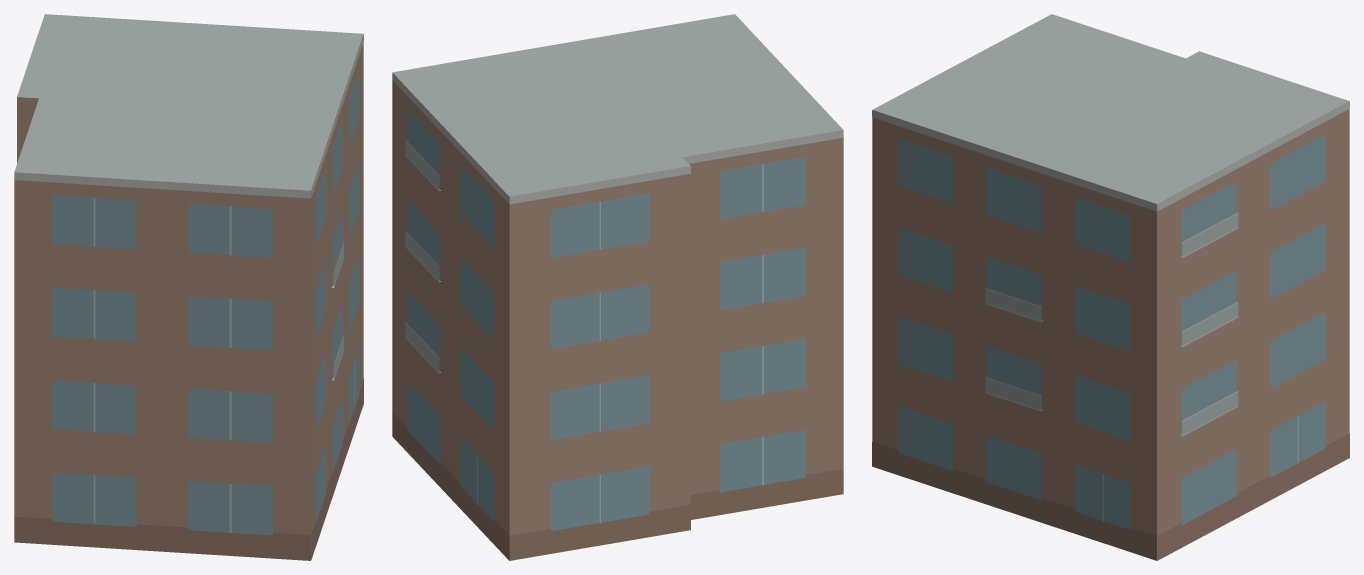
Rendered from survey-upis-33012729.glb.
3 views of the same model, side by side, from view 1: azimuth 30°, elevation 25°; view 2: azimuth 150°, elevation 25°; view 3: azimuth 270°, elevation 25° (orthographic). The views are drawn at different scales.
Parts seen in each view (by area): view 1: survey-upis-33012729.tmp; view 2: survey-upis-33012729.tmp; view 3: survey-upis-33012729.tmp.
Boxes of the visible parts, box(x1,y1,x2,y2) form: survey-upis-33012729.tmp: box(14, 14, 363, 560); survey-upis-33012729.tmp: box(392, 14, 843, 560); survey-upis-33012729.tmp: box(872, 14, 1349, 560).
Bounding box in the file's own units: 13.27 × 11.6 × 14.08.
